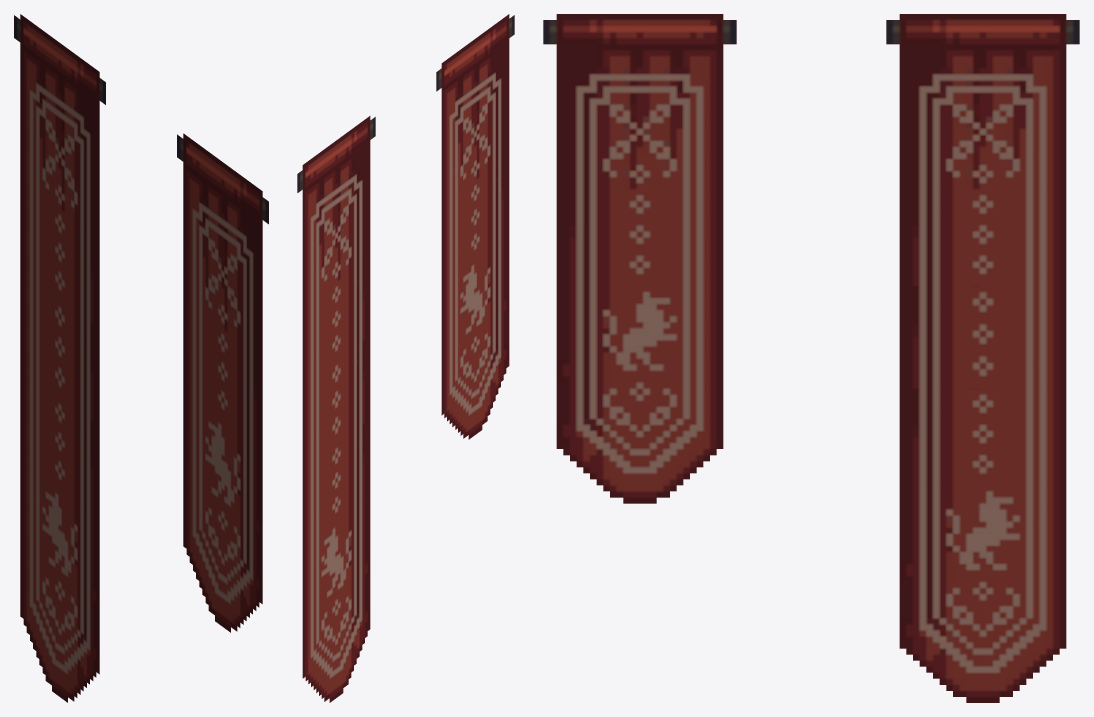
File: ObjMD_Plain_Catsle_Flag_A.FBX
3 renders of one model, left to right at view 1: azimuth 30°, elevation 25°; view 2: azimuth 150°, elevation 25°; view 3: azimuth 270°, elevation 25°, orthographic. The views are drawn at different scales.
Parts seen in each view (by area): view 1: ObjMD_Plain_Catsle_Flag_A, ObjMD_Plain_Catsle_Flag_B; view 2: ObjMD_Plain_Catsle_Flag_A, ObjMD_Plain_Catsle_Flag_B; view 3: ObjMD_Plain_Catsle_Flag_A, ObjMD_Plain_Catsle_Flag_B.
Part boxes in pixels (<box>): ObjMD_Plain_Catsle_Flag_A: <box>14,14,105,702</box>; ObjMD_Plain_Catsle_Flag_B: <box>177,133,268,632</box>; ObjMD_Plain_Catsle_Flag_A: <box>297,116,375,702</box>; ObjMD_Plain_Catsle_Flag_B: <box>436,14,514,439</box>; ObjMD_Plain_Catsle_Flag_A: <box>886,14,1079,702</box>; ObjMD_Plain_Catsle_Flag_B: <box>543,14,736,503</box>.
Bounding box in the file's own units: 3.05e-05 × 712 × 503.
